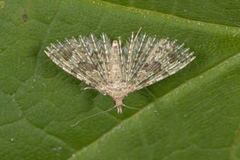Alucitidae: (35, 24, 195, 125)
moth: (37, 26, 197, 127)
